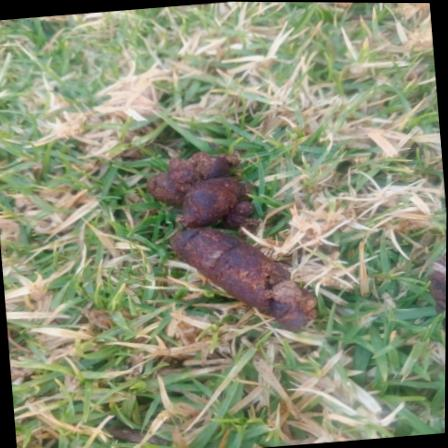dog-poop: (140, 140, 327, 348)
